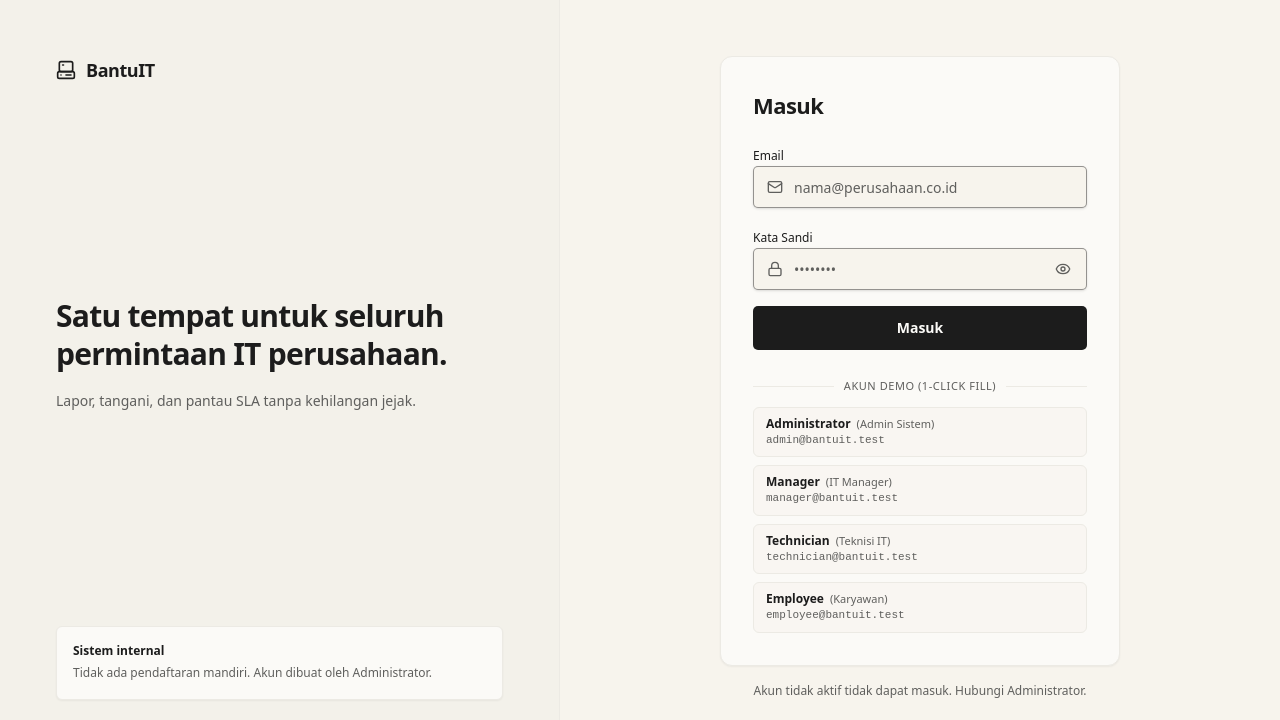
Test: LoginPage Demo Account Quick Fill Cards › fills email and password fields when Administrator card is clicked
Click the button "Administrator(Admin Sistem) admin@bantuit.test" at (920, 432), box [753,406,1087,457]
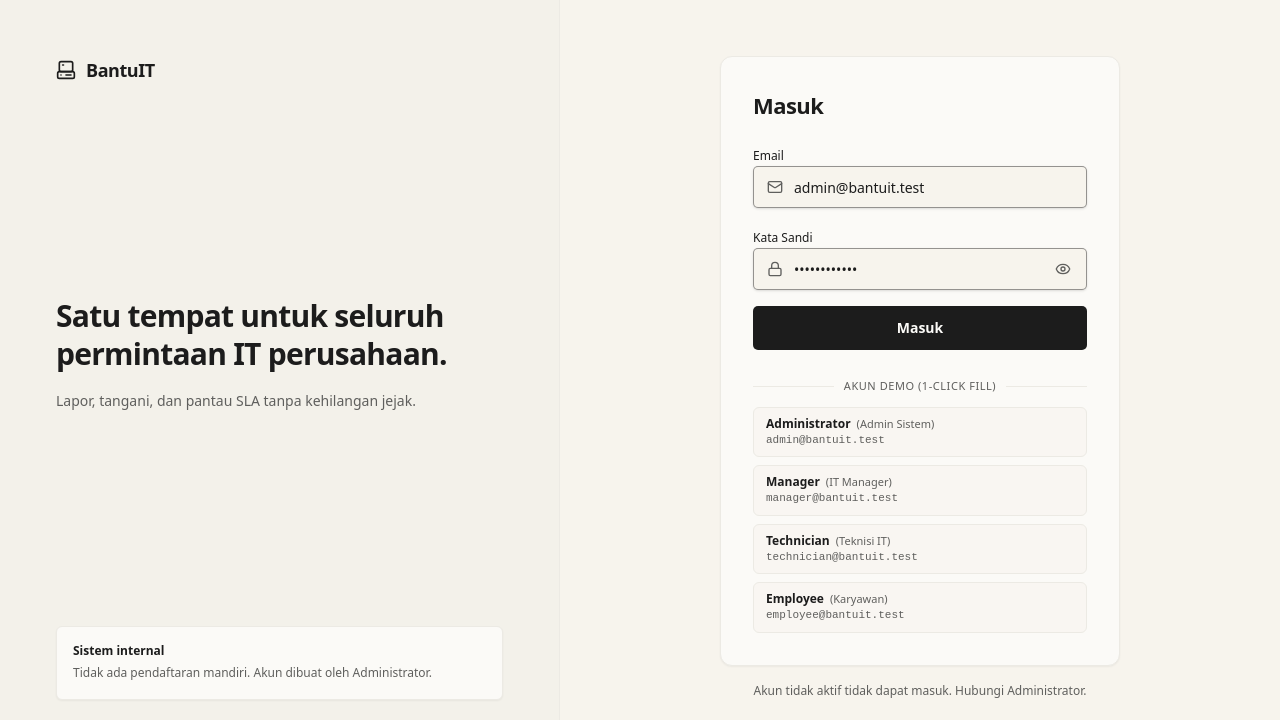
Result: the field with placeholder "nama@perusahaan.co.id" holds "admin@bantuit.test" at [753,166,1087,208]
Result: the password field with placeholder "••••••••" holds "Password123!" at [753,248,1087,290]
